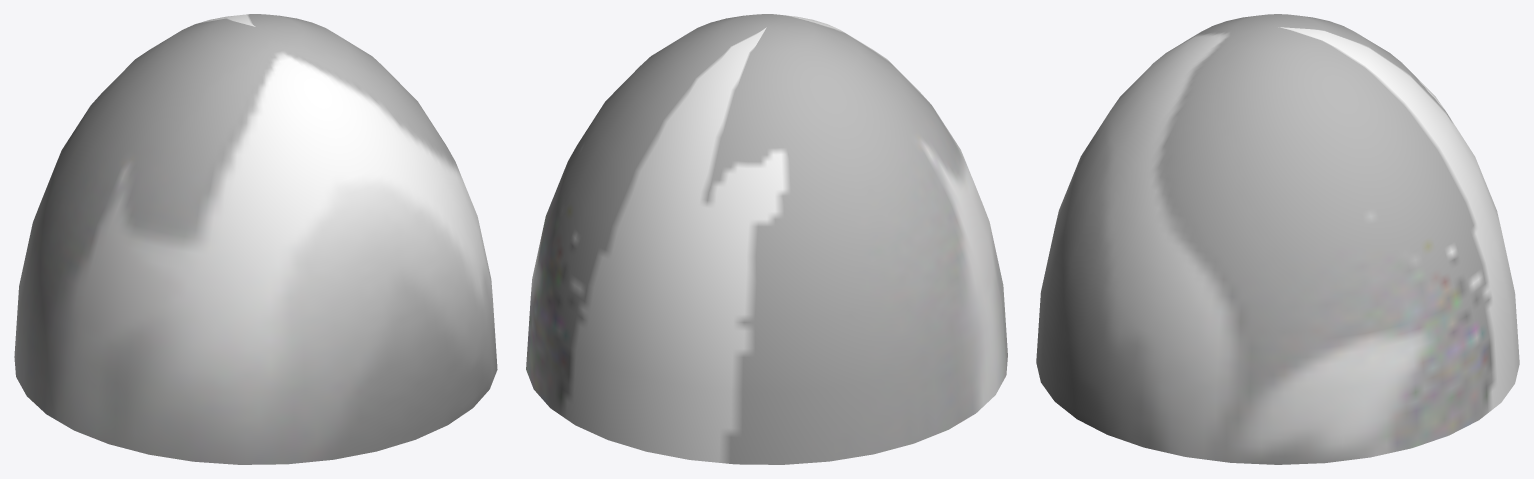
File: lesson13-4.FBX
The picture shows the model from 3 angles, left to right: view 1: azimuth 30°, elevation 25°; view 2: azimuth 150°, elevation 25°; view 3: azimuth 270°, elevation 25°; orthographic projection.
Parts seen in each view (by area): view 1: Sphere001; view 2: Sphere001; view 3: Sphere001.
Part boxes in pixels (bbox=[...]): Sphere001: bbox=[14, 14, 497, 464]; Sphere001: bbox=[526, 14, 1007, 464]; Sphere001: bbox=[1036, 14, 1519, 464].
Bounding box in the file's own units: 63.95 × 49.12 × 63.95.
